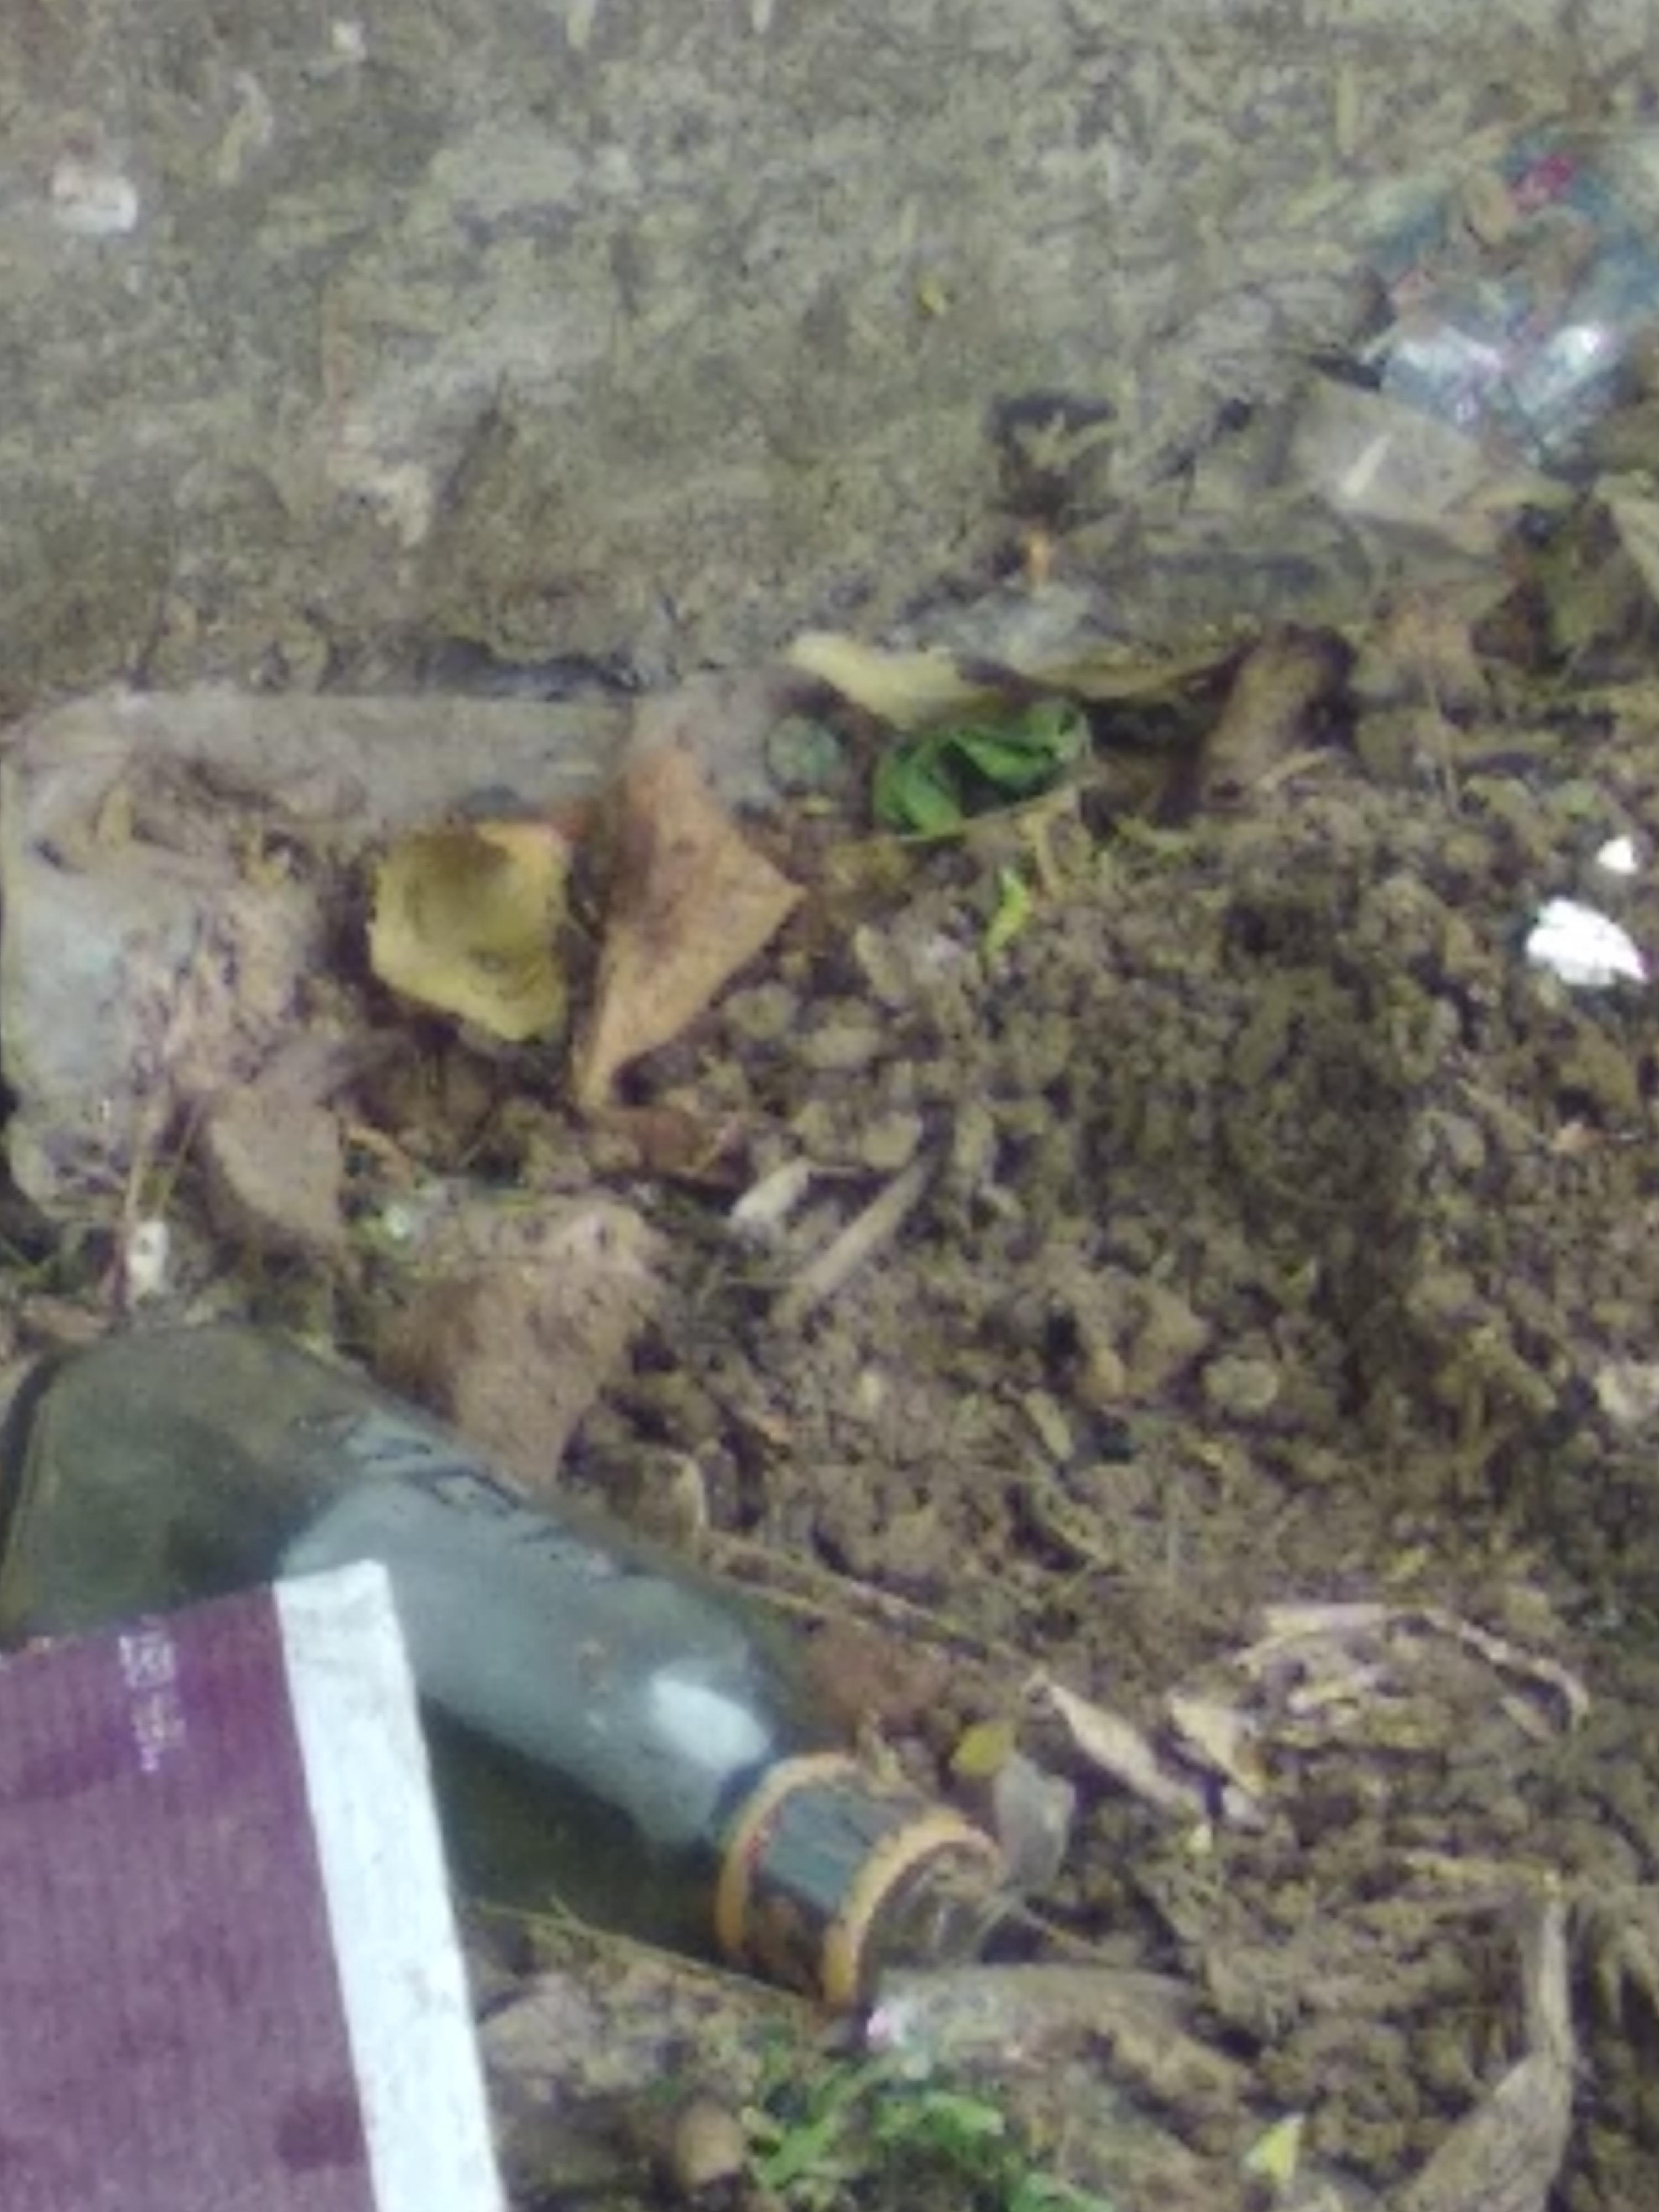trash: (0, 1294, 1053, 2200)
